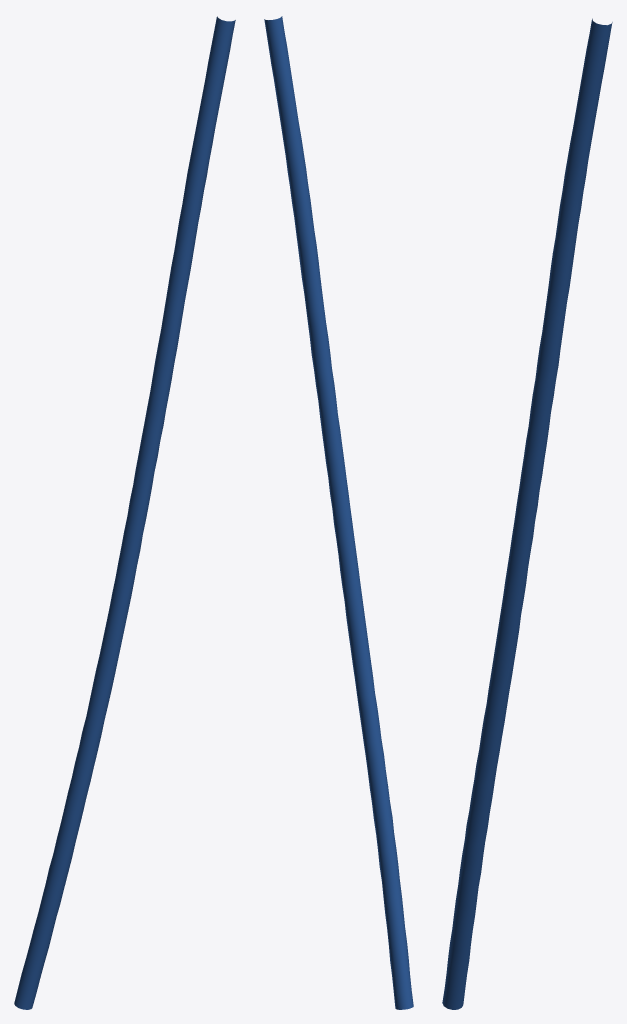
Rendered from cephalic_vein_right.glb.
The picture shows the model from 3 angles, left to right: view 1: azimuth 30°, elevation 25°; view 2: azimuth 150°, elevation 25°; view 3: azimuth 330°, elevation 25°; orthographic projection. The views are drawn at different scales.
Size of the model in its own units: 0.0987 by 0.4918 by 0.0387.
